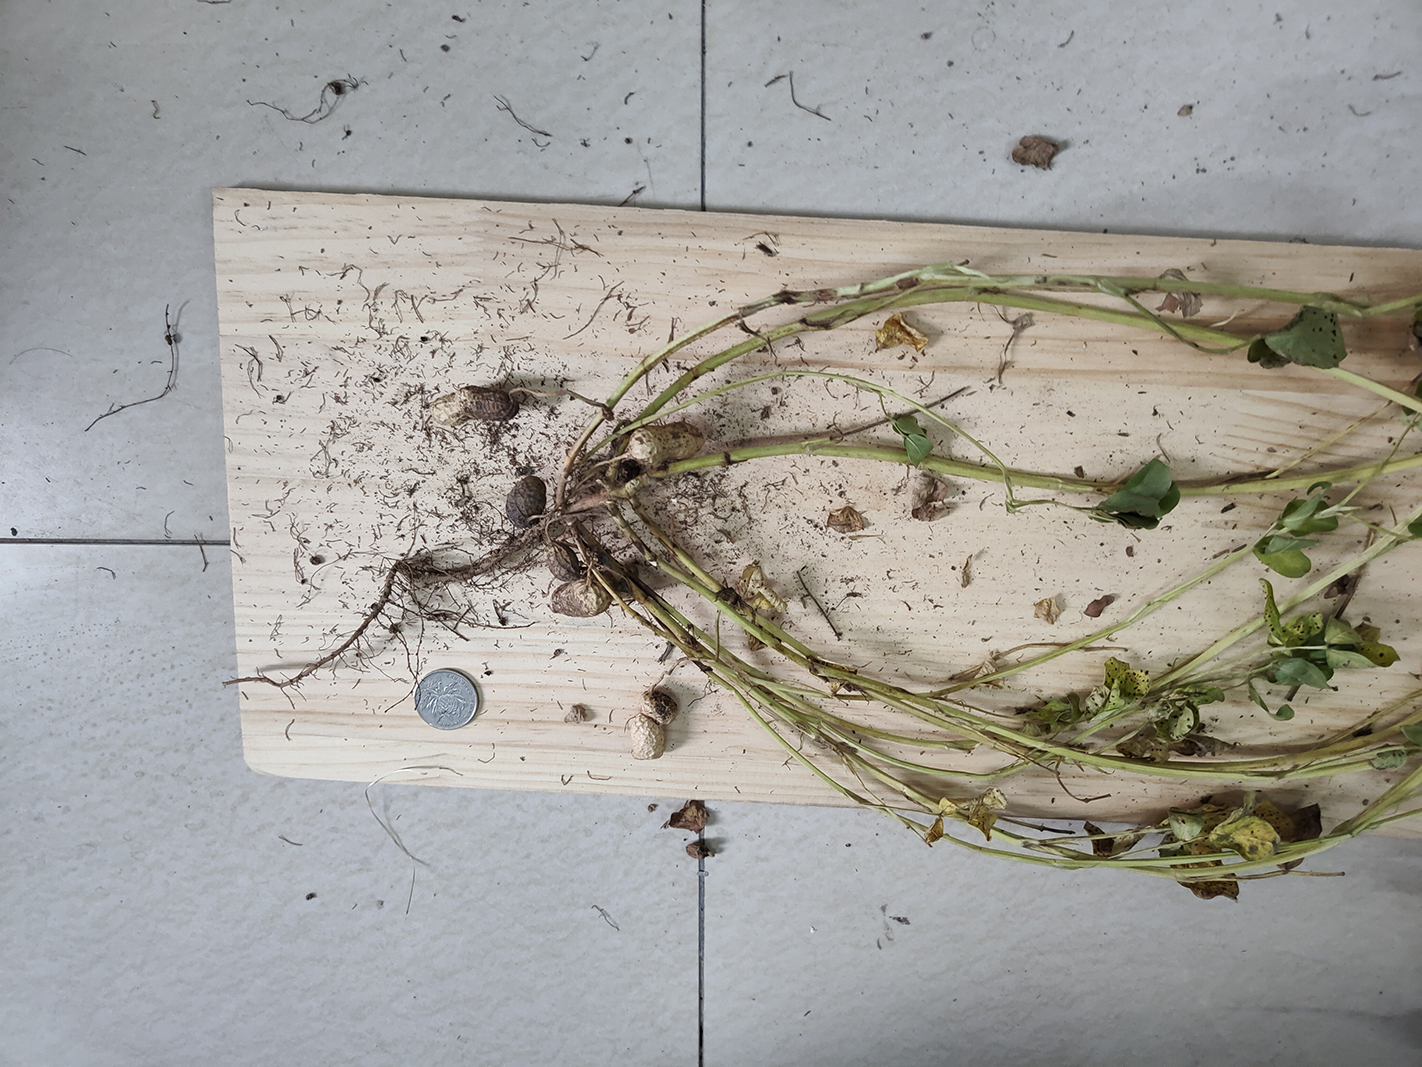h: (629, 690, 680, 759), (629, 423, 705, 463)
l: (428, 386, 521, 426), (552, 579, 612, 618), (506, 476, 549, 527), (543, 542, 580, 583)
